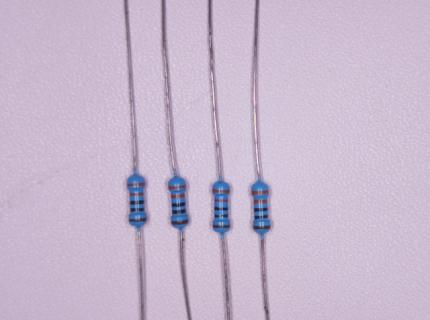Black band: (130, 207, 144, 212), (171, 202, 185, 207), (172, 209, 186, 214), (129, 200, 144, 204), (215, 214, 228, 218), (254, 208, 267, 212), (215, 207, 228, 210), (255, 216, 268, 219)
Brown band: (172, 219, 188, 225), (253, 225, 271, 229), (130, 218, 147, 222), (213, 225, 230, 228)
Orange band: (252, 190, 269, 195), (171, 193, 185, 198), (253, 199, 267, 204), (169, 185, 185, 189), (213, 189, 229, 193), (129, 192, 143, 196), (127, 183, 144, 186), (214, 199, 228, 202)
